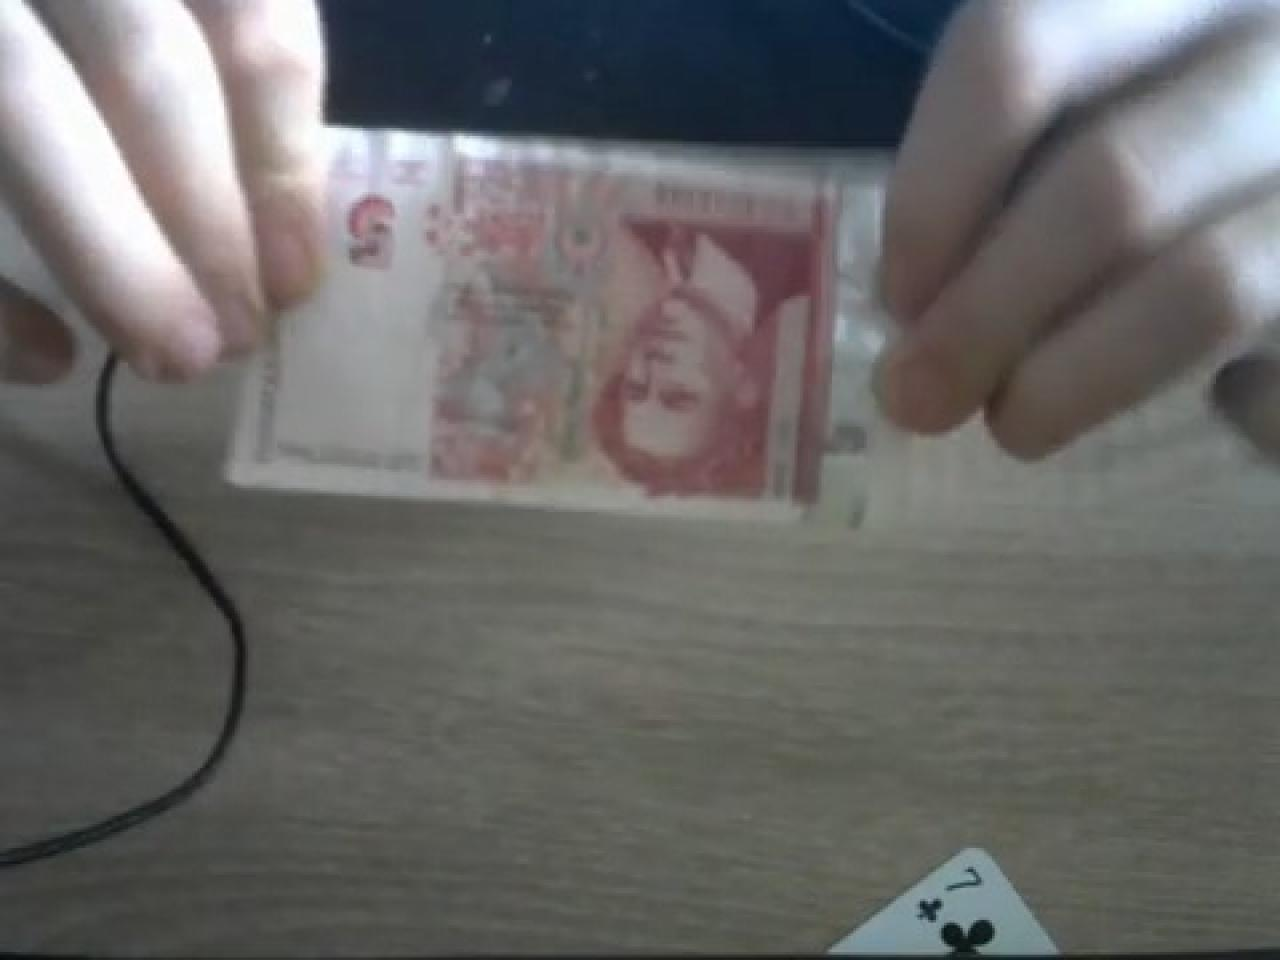5leva: (259, 133, 875, 530)
